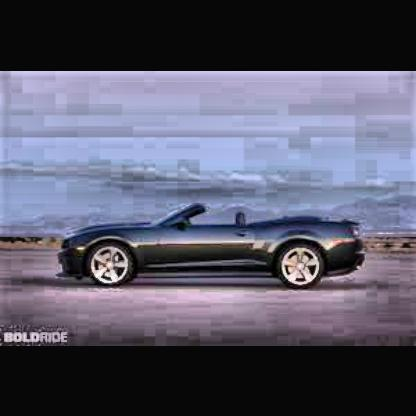Chevrolet Camaro Convertible 2012: (61, 204, 368, 292)
